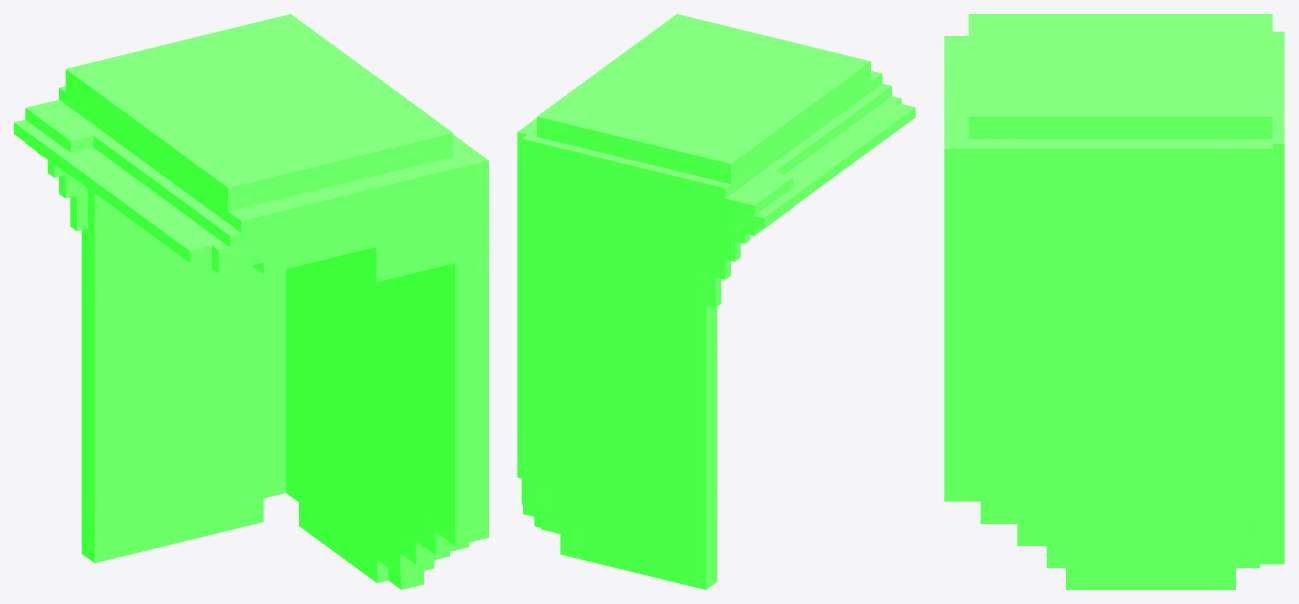
The model's file is side_part_green.glb.
The picture shows the model from 3 angles, left to right: view 1: azimuth 30°, elevation 25°; view 2: azimuth 150°, elevation 25°; view 3: azimuth 270°, elevation 25°; orthographic projection. The views are drawn at different scales.
Visible parts, largest first — view 1: fem_side_part_uw; view 2: fem_side_part_uw; view 3: fem_side_part_uw.
Part boxes in pixels (<box>): fem_side_part_uw: <box>14,14,488,589</box>; fem_side_part_uw: <box>517,14,915,589</box>; fem_side_part_uw: <box>944,14,1284,589</box>.
Bounding box in the file's own units: 2.6 × 4.2 × 2.8.
Materials: 1 (1 with a texture image).
